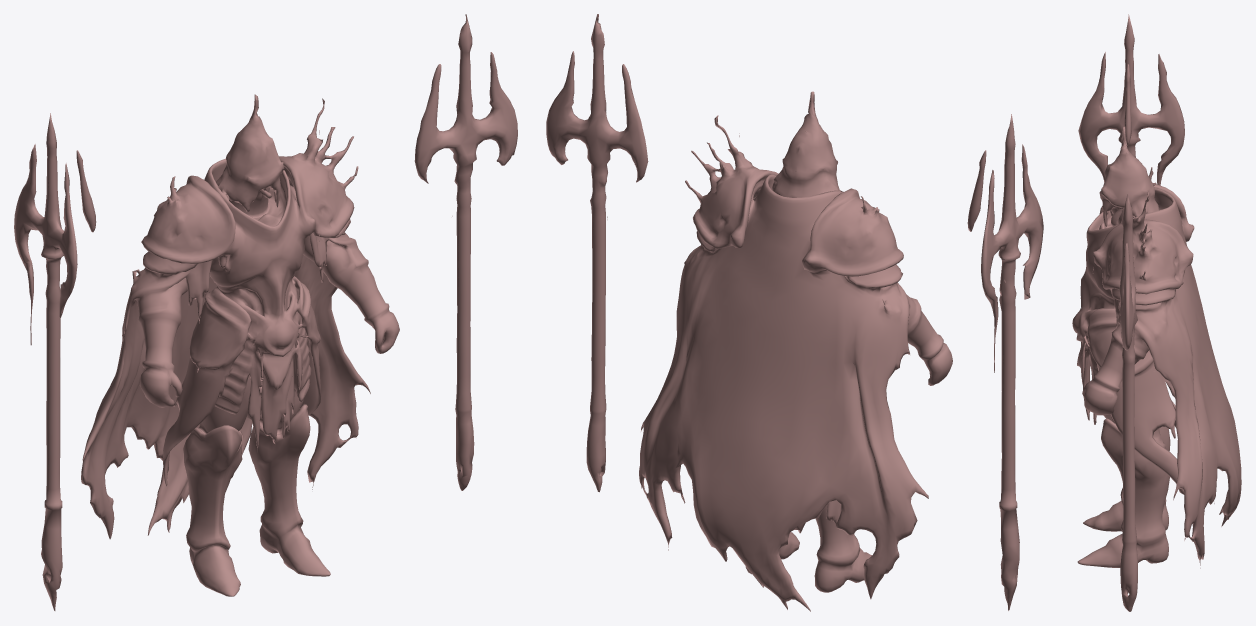
File: pack-herald.glb
3 renders of one model, left to right at view 1: azimuth 30°, elevation 25°; view 2: azimuth 150°, elevation 25°; view 3: azimuth 270°, elevation 25°, orthographic. The views are drawn at different scales.
Parts seen in each view (by area): view 1: model; view 2: model; view 3: model.
Part boxes in pixels (x1,y1,x2,y2): model: (14, 14, 517, 610); model: (546, 14, 1043, 611); model: (1072, 14, 1241, 611).
Bounding box in the file's own units: 1.86 × 1.89 × 0.6521.
